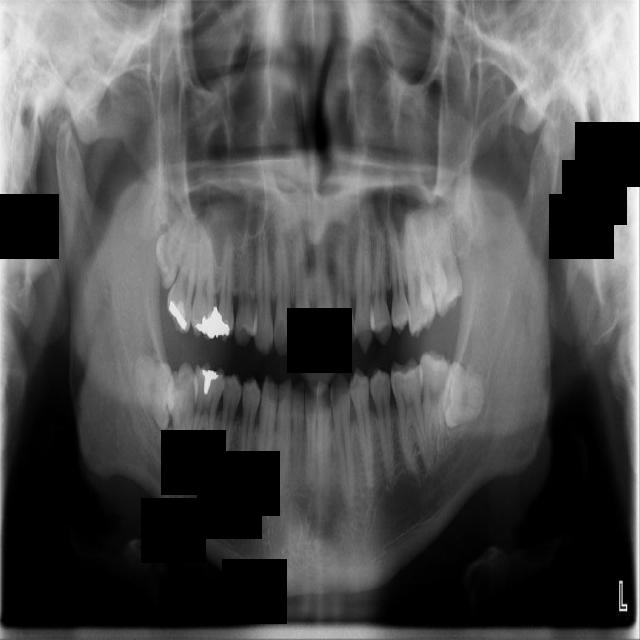3M ESPE Implant: (144, 197, 199, 291)
52: (192, 360, 227, 407), (166, 279, 193, 332), (190, 295, 220, 342), (214, 302, 237, 343)
73: (604, 570, 619, 589)
BioHorizons Implant: (404, 196, 452, 318)
BioLife Implant: (420, 189, 467, 319)
Biomet 3i Implant: (435, 360, 491, 435)
Blue Sky Bio Implant: (418, 347, 459, 462)
Caries: (163, 208, 204, 335)
Implant: (159, 361, 200, 472)
Keystone Dental Implant: (128, 349, 185, 435)
